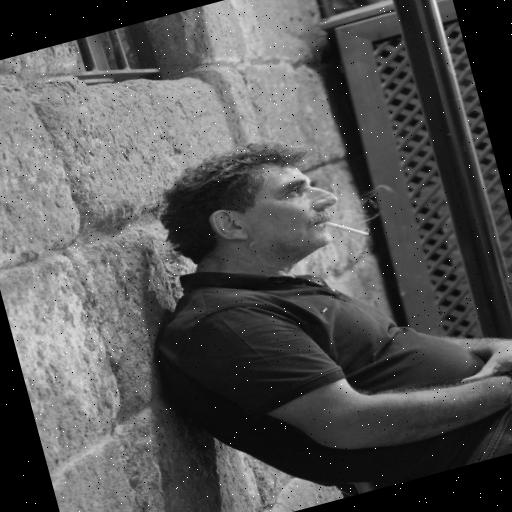terdeteksi merokok: (283, 154, 391, 263)
